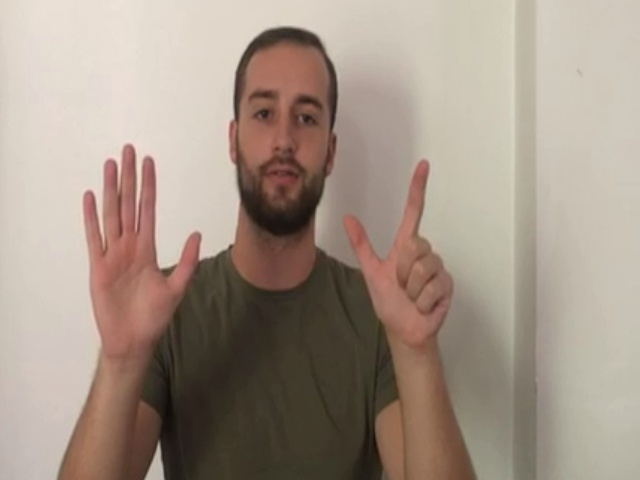Pet i Sedumnaeset: (77, 140, 459, 363)
